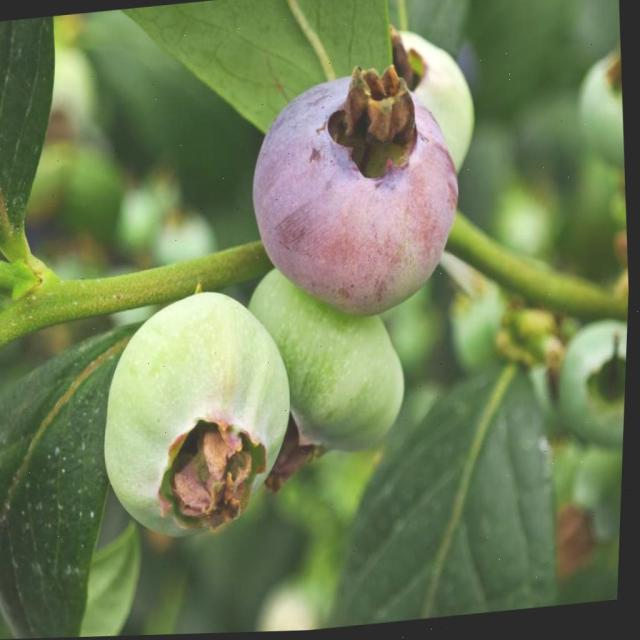Semi-RipeBlueBerry: (239, 58, 475, 330)
UnripeBlueBerry: (94, 280, 308, 550), (241, 254, 418, 464)
